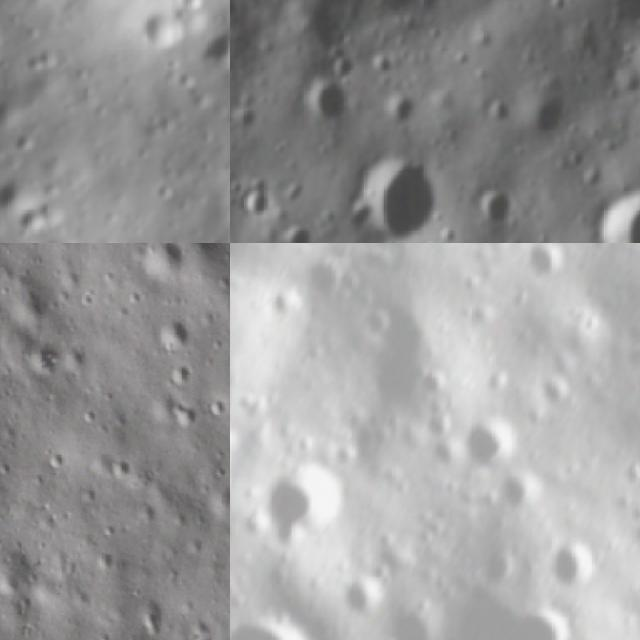crater: (381, 588, 586, 640), (343, 153, 444, 243), (259, 458, 353, 544), (455, 408, 522, 475), (535, 530, 602, 594), (520, 80, 573, 152), (300, 76, 358, 131), (230, 607, 323, 640), (590, 186, 640, 243), (132, 2, 184, 54), (124, 243, 190, 283), (495, 471, 546, 522), (511, 601, 577, 640), (519, 243, 575, 282), (338, 584, 391, 623), (476, 180, 517, 230), (297, 256, 340, 302), (360, 299, 400, 347), (530, 366, 574, 409), (474, 552, 517, 595), (235, 182, 278, 224), (380, 88, 420, 131), (23, 340, 60, 377), (412, 366, 446, 404), (418, 410, 458, 442), (230, 431, 247, 495), (478, 95, 514, 124), (281, 221, 318, 243), (628, 358, 640, 412), (622, 502, 640, 533), (626, 522, 640, 556)
